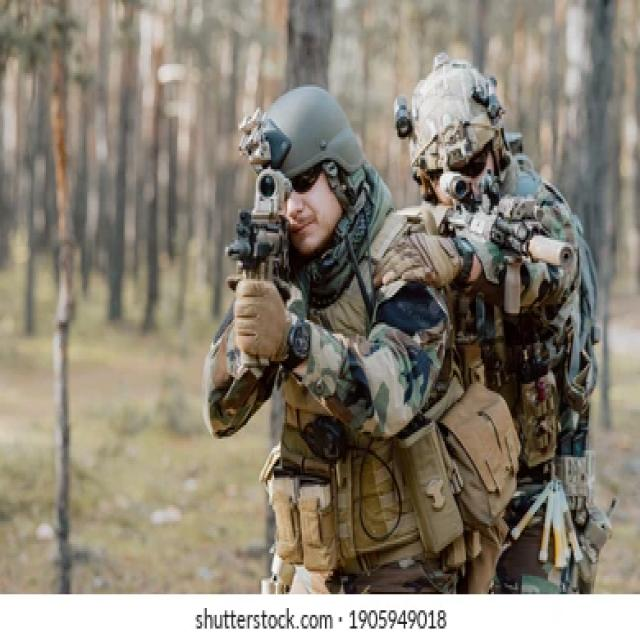soldier: (197, 75, 502, 594), (371, 37, 597, 338)
